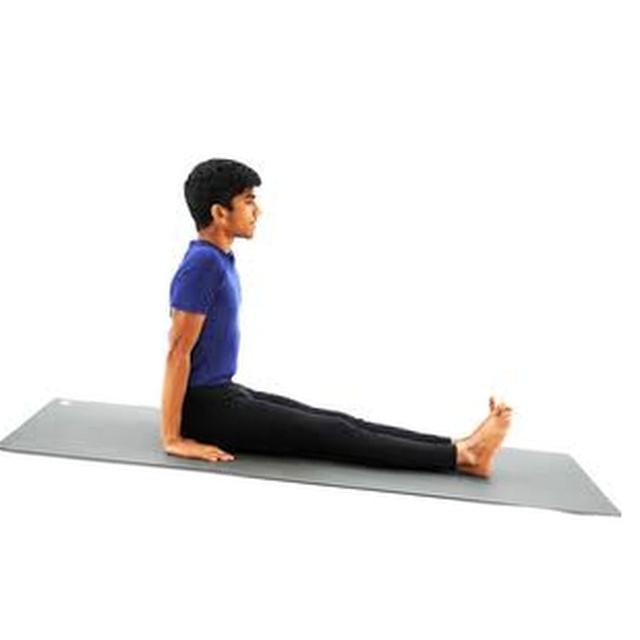Staff_Pose: (159, 157, 513, 479)
